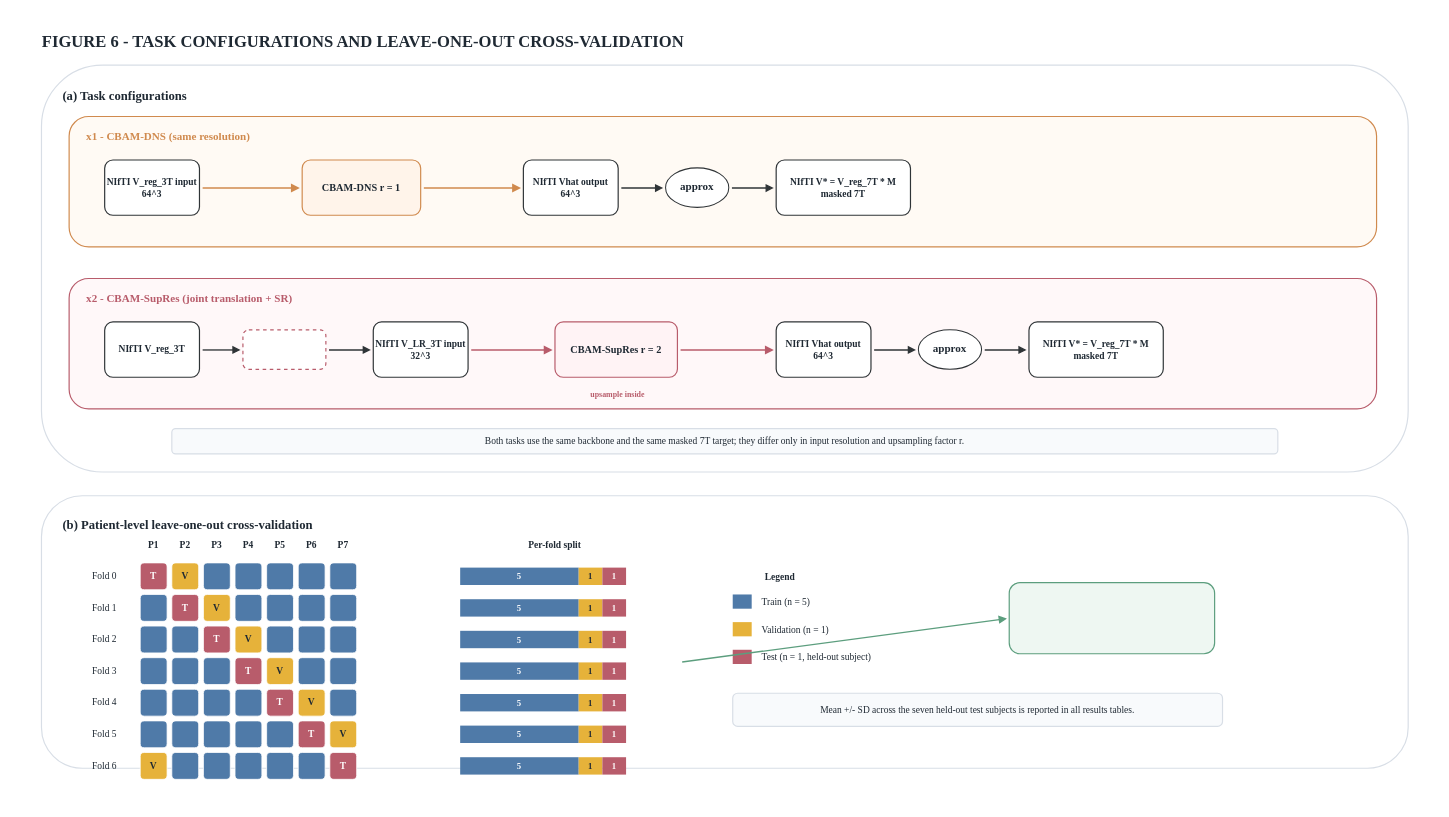
The diagram is 1449 pixels wide and 817 high, and some of its shapes have lost their labels. The shapes that lost their labels are listed below. From the top down, each one's box as (x1, y1, x2, y2) in pixels, then its label:
(242, 329, 326, 370): x0.5 trilinear
(1008, 582, 1215, 654): Seven independent folds patient-level split no subject leakage
